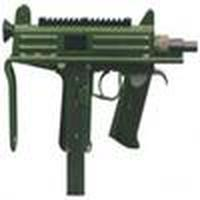gun: (1, 10, 200, 171)
